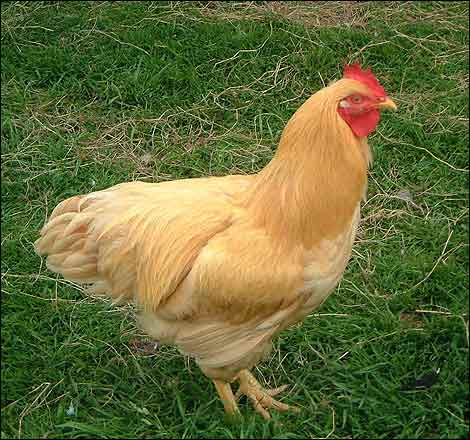chicken: (55, 61, 404, 430)
